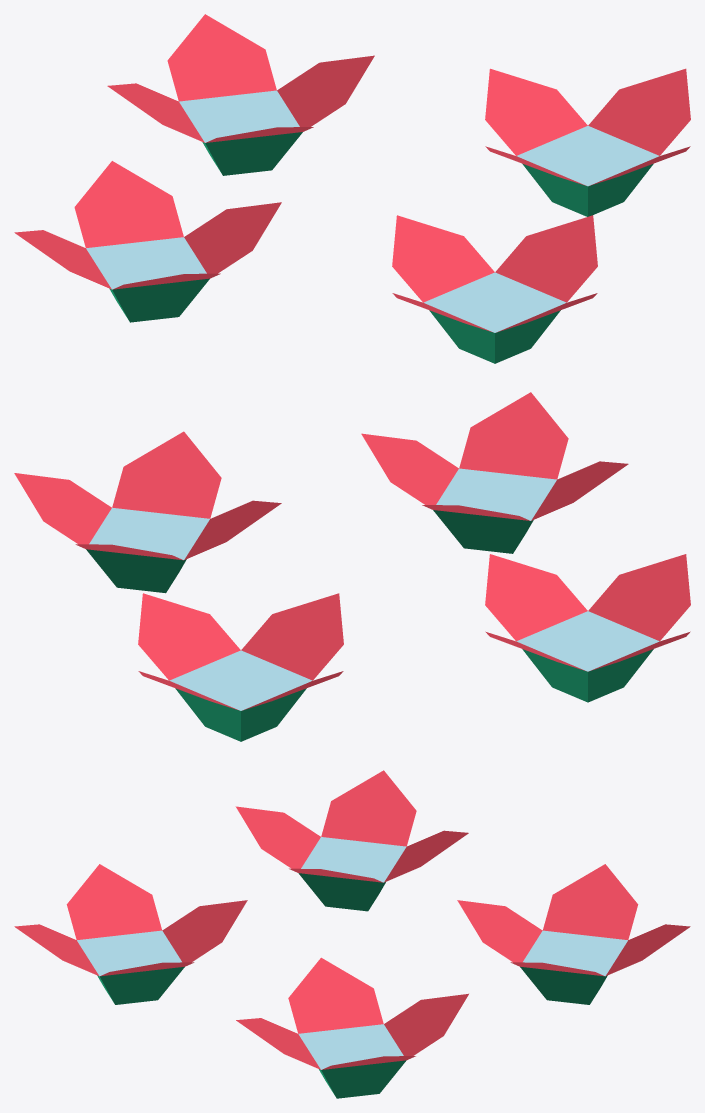
The model's file is flowersLow.fbx.
3 views of the same model, one above another, from view 1: azimuth 30°, elevation 25°; view 2: azimuth 150°, elevation 25°; view 3: azimuth 270°, elevation 25° (orthographic). The views are drawn at different scales.
Parts seen in each view (by area): view 1: flowersLow; view 2: flowersLow; view 3: flowersLow.
Part boxes in pixels (x1=…): flowersLow: x1=14, y1=14, x2=690, y2=363; flowersLow: x1=14, y1=392, x2=690, y2=741; flowersLow: x1=14, y1=770, x2=690, y2=1098.
Bounding box in the file's own units: 7.64 × 1 × 7.64.
